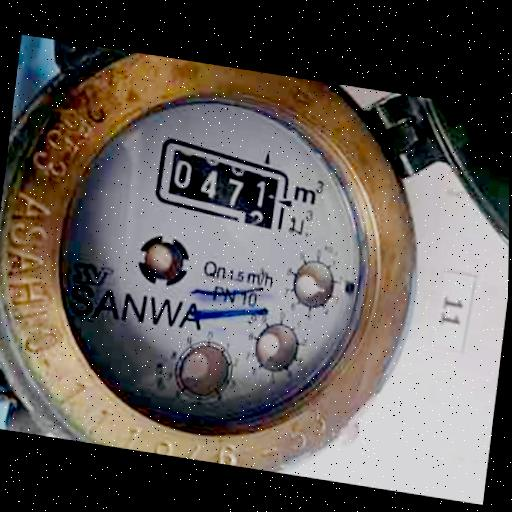0: (167, 148, 200, 199)
1: (244, 171, 279, 229)
4: (193, 156, 228, 206)
7: (219, 163, 253, 213)
border_water_meter_number: (149, 134, 297, 234)
